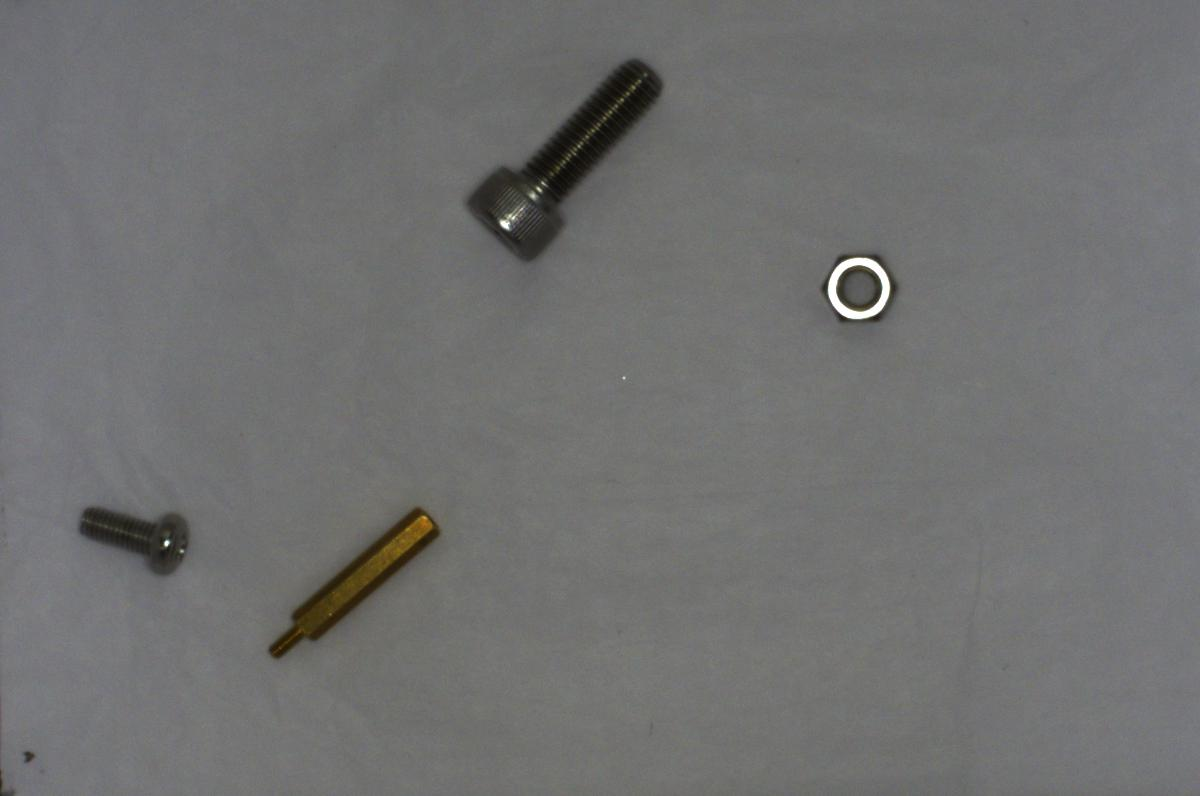Hexagon nut: (804, 239, 904, 335)
Hexagon pillar: (262, 496, 450, 662)
Hexagon screw: (451, 52, 661, 255)
Round head screw: (77, 493, 204, 581)
